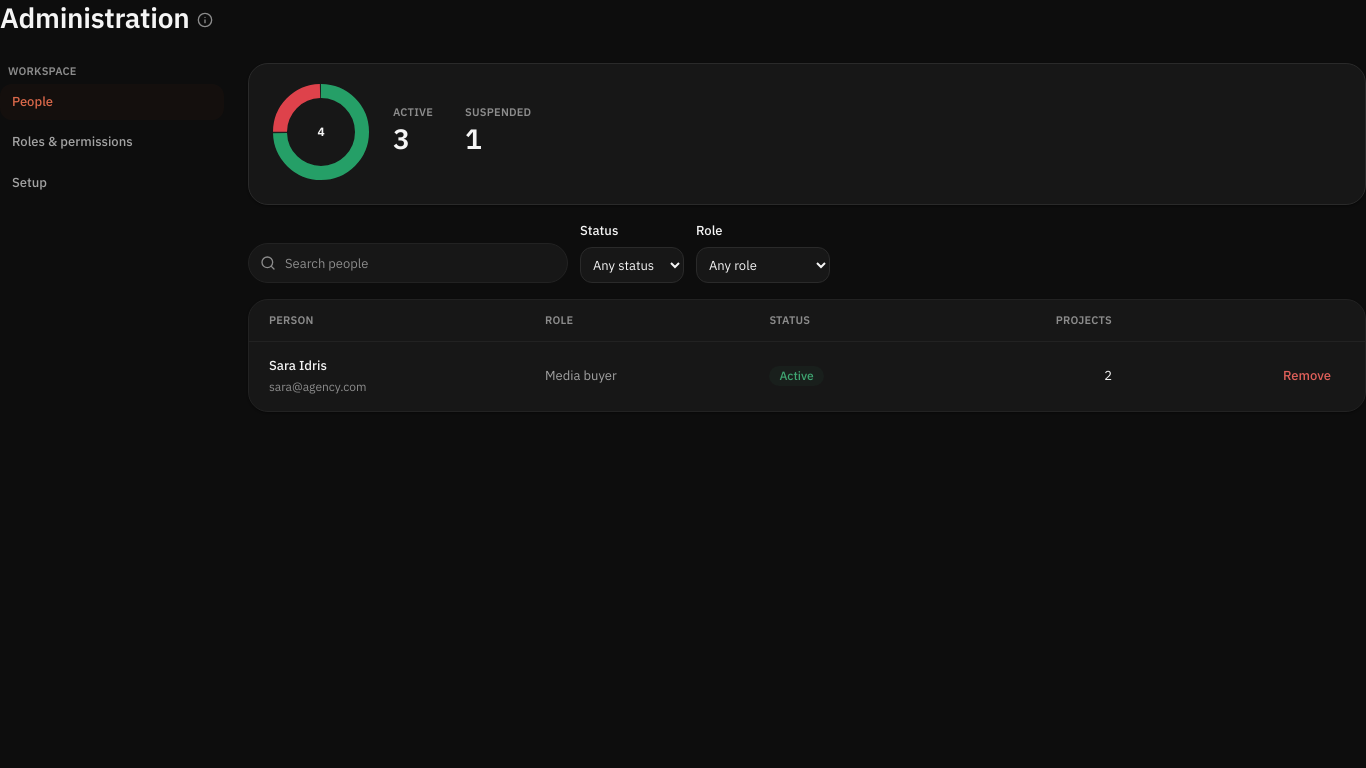
Test case: AdministrationPage › says plainly when it cannot read what they are holding
What coordinates should you click on to do the following:
click the button "Remove"
I would click on:
 (1307, 376)
Its box is [1269,360,1345,392].
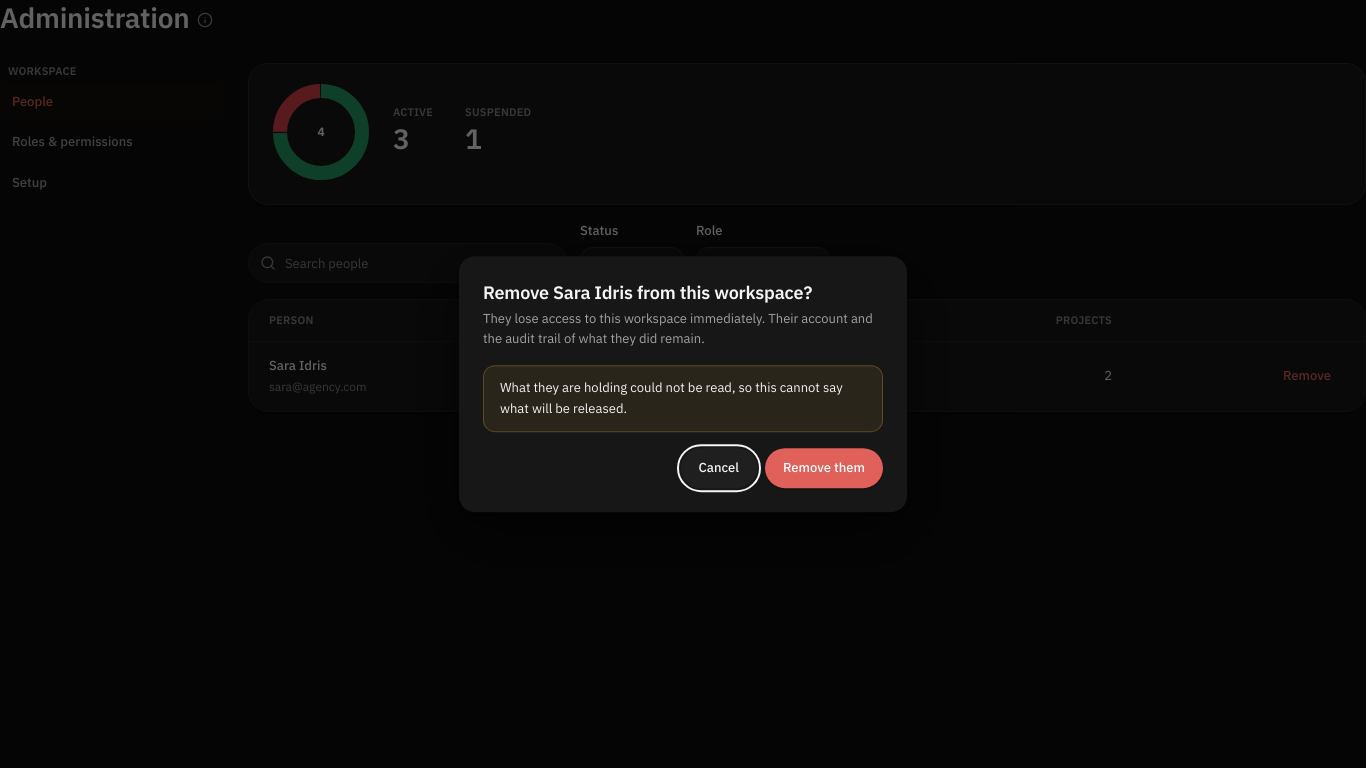
Now the dialog shows "could not be read", box [500,379,843,418]
Now the button "Remove them" is enabled, box [765,448,883,488]
